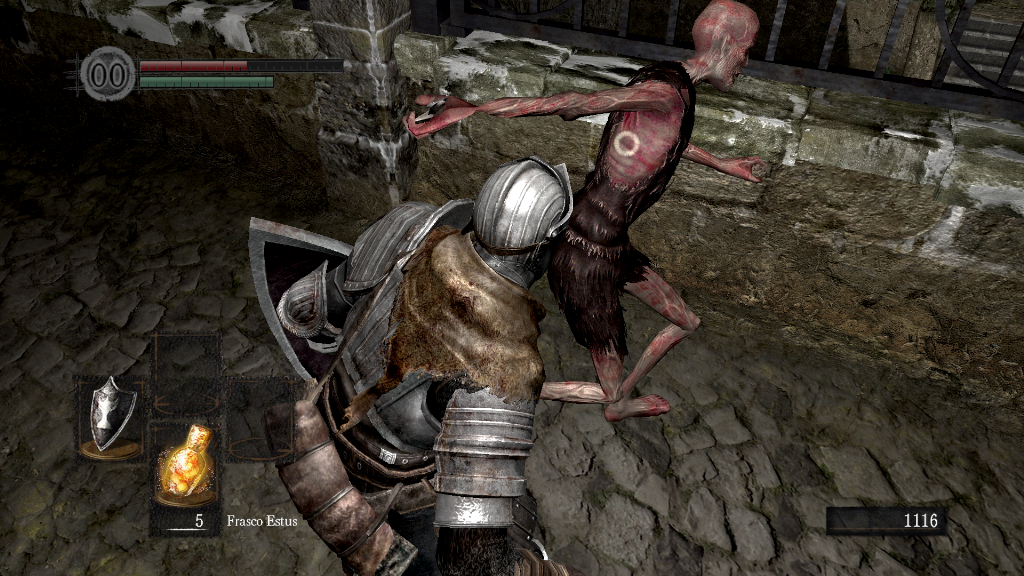health: (138, 58, 343, 71)
hollow: (406, 2, 770, 422)
humanity: (80, 45, 136, 102)
player: (236, 154, 577, 576)
souls: (825, 506, 945, 536)
stamina: (138, 74, 274, 88)
